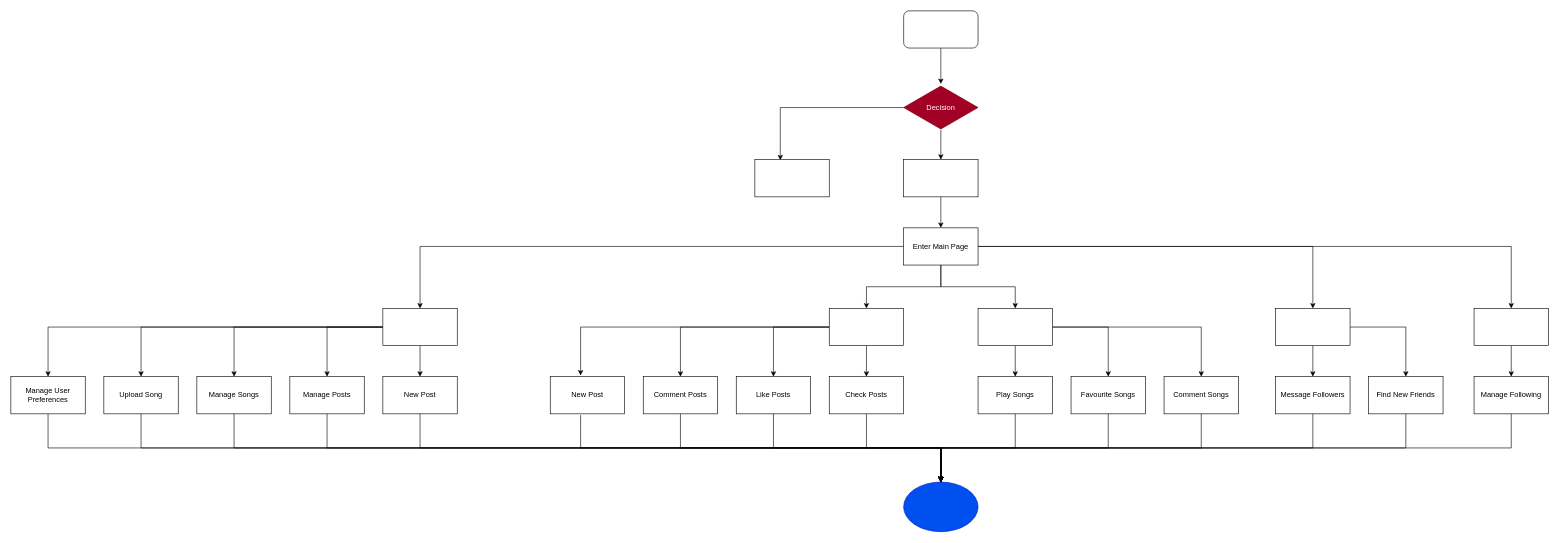
The diagram is 1559 pixels wide and 543 high, and some of its shapes have lost their labels. The centre of each missing label's shape, as x and y in pixels:
"Back to Main Page" belongs at pixel 940 506.
"Followers" belongs at pixel 1312 327.
"Following" belongs at pixel 1510 327.
"Launch KMPSR" belongs at pixel 940 29.
"Log In" belongs at pixel 940 178.
"Posts Feed" belongs at pixel 866 327.
"Profile Page" belongs at pixel 419 327.
"Register" belongs at pixel 791 178.
"Songs Feed" belongs at pixel 1014 327.
